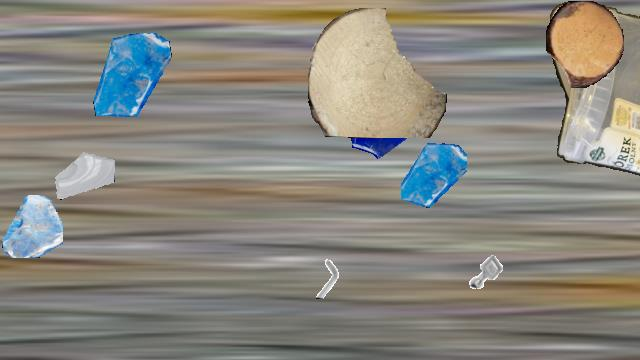glass: (90, 33, 174, 117), (340, 78, 422, 160), (401, 142, 467, 208), (0, 195, 62, 257), (54, 140, 114, 200)
metal: (461, 247, 511, 297), (306, 257, 348, 299)
plastic: (550, 1, 640, 175)
wood: (308, 8, 446, 138), (546, 1, 624, 87), (604, 1, 640, 127)
